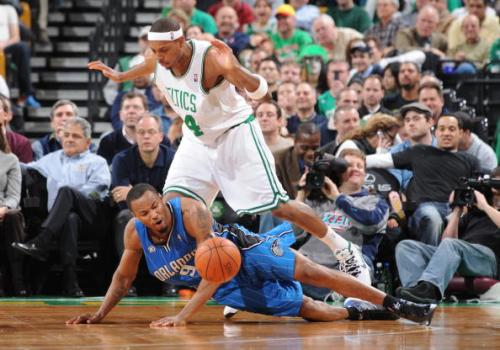10+: (1, 1, 499, 331)
down: (63, 180, 438, 330)
